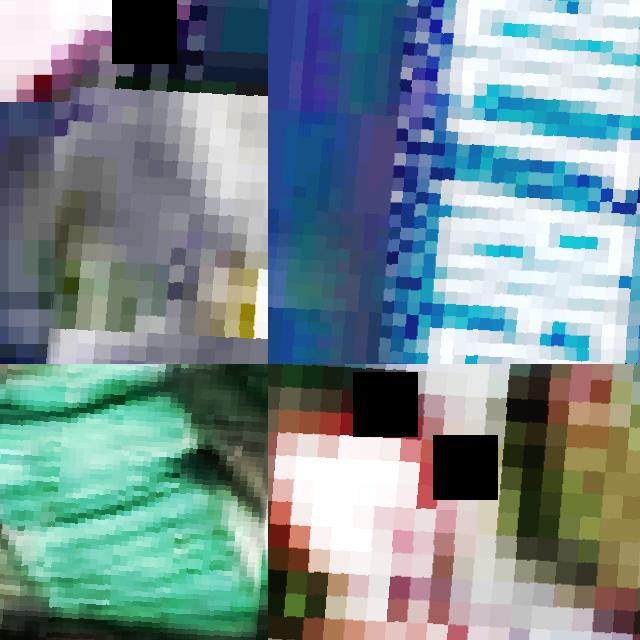arms: (268, 0, 640, 364), (268, 364, 640, 640), (50, 0, 268, 364), (0, 364, 268, 640)
